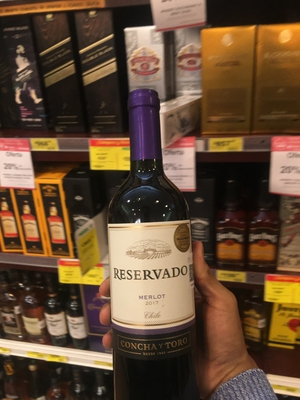reservado merlot: (94, 83, 218, 378)
